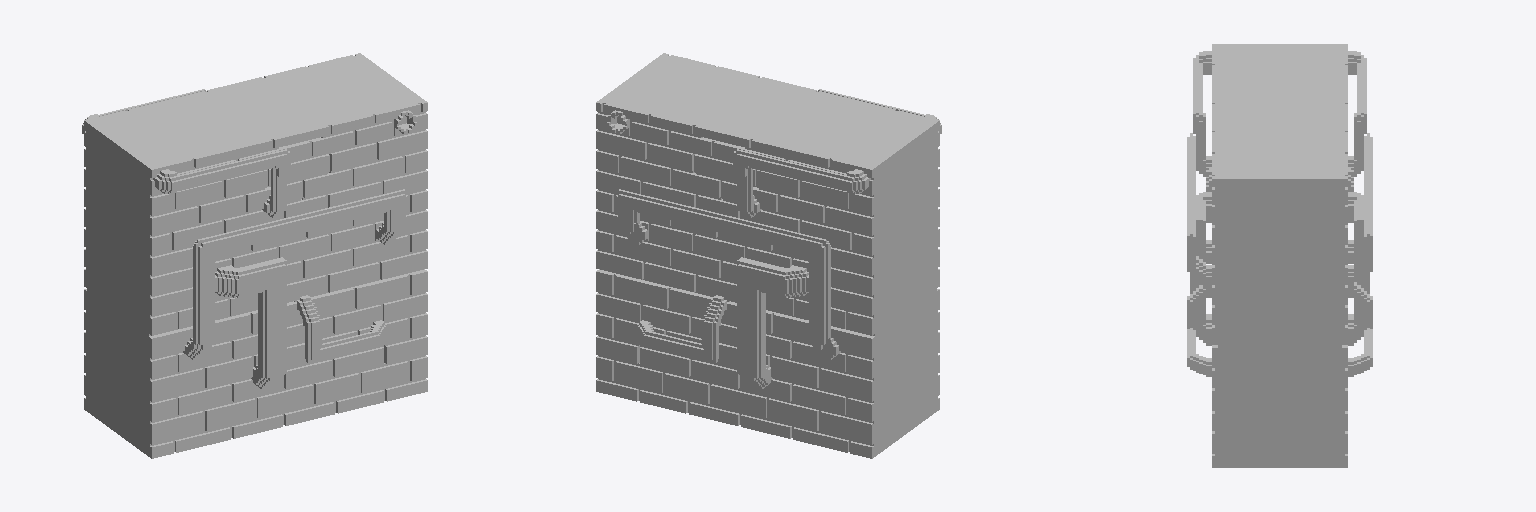
The model's file is wall.obj.
3 renders of one model, left to right at view 1: azimuth 30°, elevation 25°; view 2: azimuth 150°, elevation 25°; view 3: azimuth 270°, elevation 25°, orthographic.
Parts seen in each view (by area): view 1: wall; view 2: wall; view 3: wall.
Part boxes in pixels (left/top/right/bottom): wall: left=82, top=53, right=427, bottom=458; wall: left=596, top=53, right=941, bottom=458; wall: left=1187, top=44, right=1372, bottom=467.
Bounding box in the file's own units: 101 × 101 × 59.